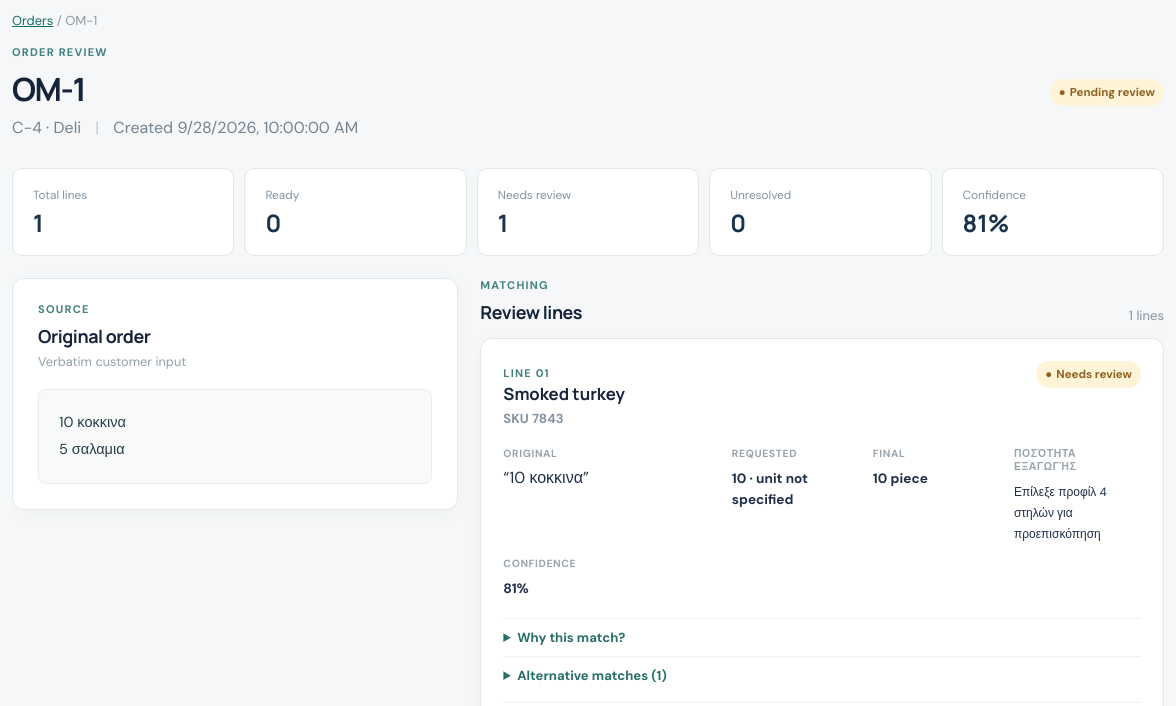
it: operator review › renders verbatim raw input, match and review status
Check: the heading "Smoked turkey" is shown, box 503,382 -> 625,405
Check: the text "Needs review" is shown, box 498,187 -> 571,203
Click the heading "Why this match?".
click(571, 637)  # box 517,629 -> 625,646
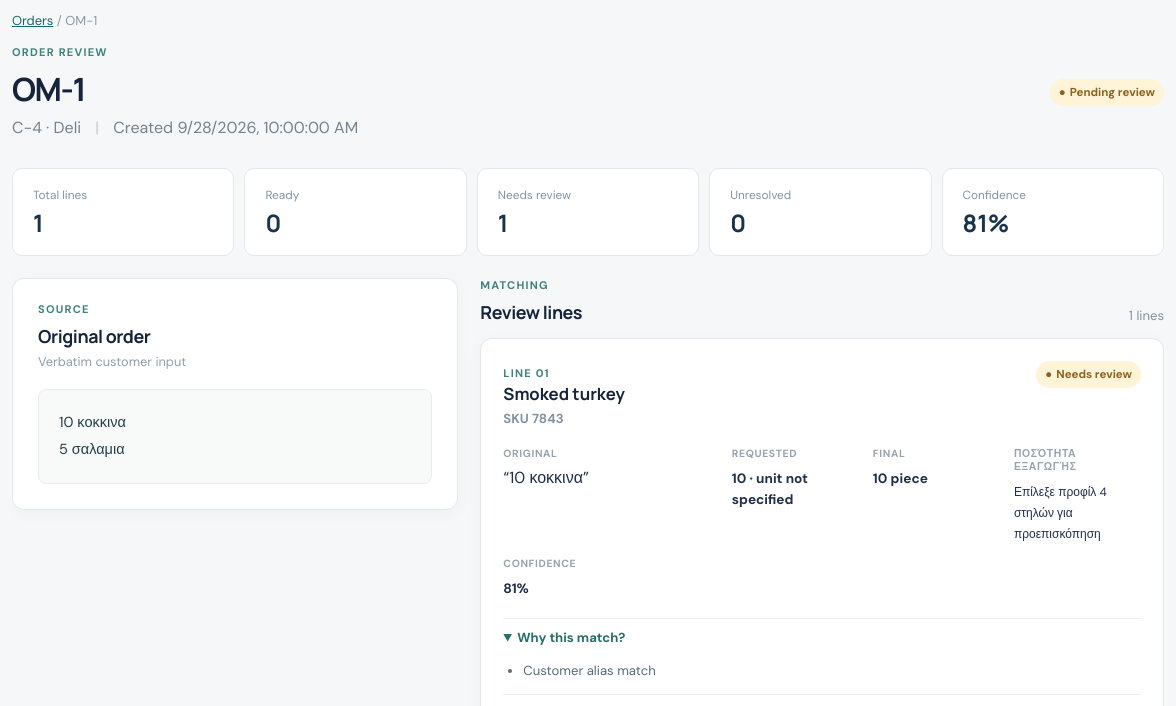
Check: the list item "Customer alias match" is shown, box 523,662 -> 656,679
